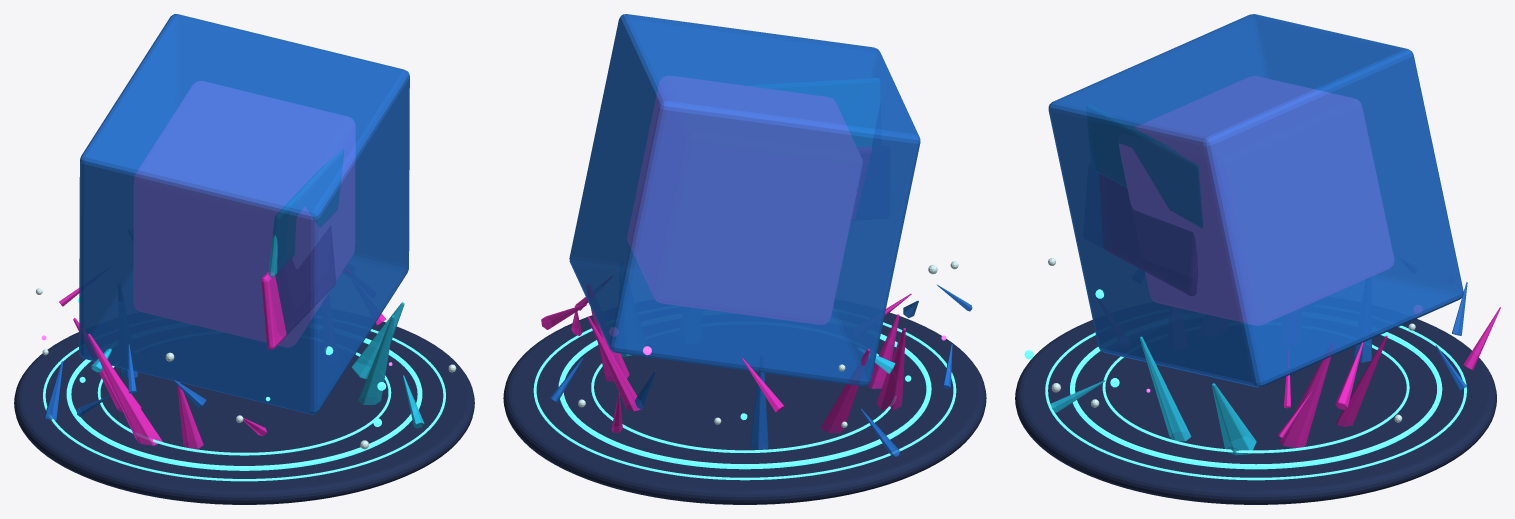
File: MagicCube.fbx
The picture shows the model from 3 angles, left to right: view 1: azimuth 30°, elevation 25°; view 2: azimuth 150°, elevation 25°; view 3: azimuth 270°, elevation 25°; orthographic projection. The views are drawn at different scales.
Parts seen in each view (by area): view 1: MagicCube_Main, MagicCube_Platform, MagicCube_InnerCore, Front_Pink_Panel, MagicRing, MagicRing.001, MagicShard_00, Front_Blue_Panel, MagicShard_05, MagicRing.002, MagicShard_03, MagicShard_02; view 2: MagicCube_Main, MagicCube_Platform, MagicCube_InnerCore, Front_Blue_Panel, MagicRing, MagicRing.001, MagicShard_00, MagicRing.002, MagicShard_01, MagicShard_07, MagicShard_06, MagicShard_02 (+1 smaller); view 3: MagicCube_Main, MagicCube_Platform, MagicCube_InnerCore, Front_Pink_Panel, MagicRing, Front_Blue_Panel, MagicRing.001, MagicShard_04, MagicRing.002, MagicShard_03, MagicShard_05, MagicShard_07 (+1 smaller).
Boxes of the visible parts, x1,y1,x2,y2 form: MagicCube_Main: (79, 14, 409, 414); MagicCube_Platform: (14, 321, 474, 504); MagicCube_InnerCore: (134, 81, 354, 346); Front_Pink_Panel: (261, 227, 335, 349); MagicRing: (66, 338, 422, 470); MagicRing.001: (43, 329, 445, 481); MagicShard_00: (88, 333, 162, 445); Front_Blue_Panel: (268, 150, 343, 277); MagicShard_05: (358, 315, 394, 404); MagicRing.002: (97, 352, 391, 455); MagicShard_03: (351, 302, 404, 379); MagicShard_02: (177, 381, 203, 448); MagicCube_Main: (569, 14, 920, 386); MagicCube_Platform: (503, 312, 986, 504); MagicCube_InnerCore: (628, 76, 861, 324); Front_Blue_Panel: (754, 78, 880, 146); MagicRing: (558, 334, 931, 469); MagicRing.001: (533, 322, 956, 480); MagicShard_00: (876, 328, 905, 410); MagicRing.002: (591, 353, 891, 452); MagicShard_01: (820, 348, 870, 432); MagicShard_07: (587, 316, 640, 411); MagicShard_06: (749, 355, 768, 449); MagicShard_02: (867, 314, 899, 388); MagicCube_Main: (1048, 14, 1463, 387); MagicCube_Platform: (1015, 319, 1496, 504); MagicCube_InnerCore: (1119, 76, 1393, 325); Front_Pink_Panel: (1099, 174, 1197, 295); MagicRing: (1070, 332, 1442, 469); Front_Blue_Panel: (1086, 105, 1165, 186); MagicRing.001: (1045, 325, 1466, 480); MagicShard_04: (1279, 343, 1333, 448); MagicRing.002: (1102, 344, 1409, 453); MagicShard_03: (1212, 383, 1256, 455); MagicShard_05: (1140, 336, 1191, 441); MagicShard_07: (1336, 335, 1387, 426).
Size of what is drawn, in the model's own units: 840 by 762 by 847.
